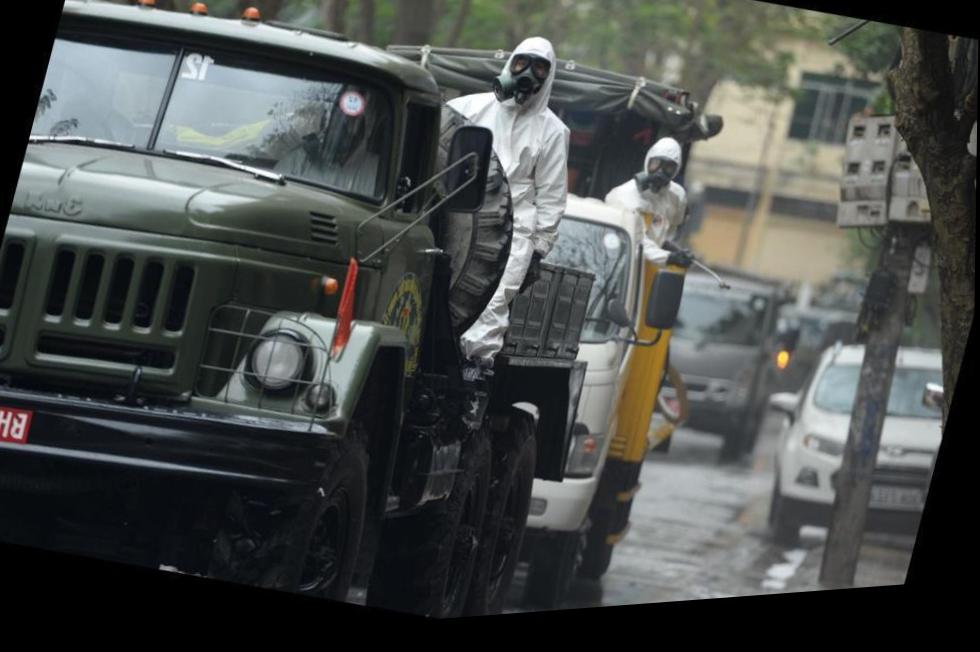License_Plate: (852, 473, 925, 531), (0, 397, 36, 448)
